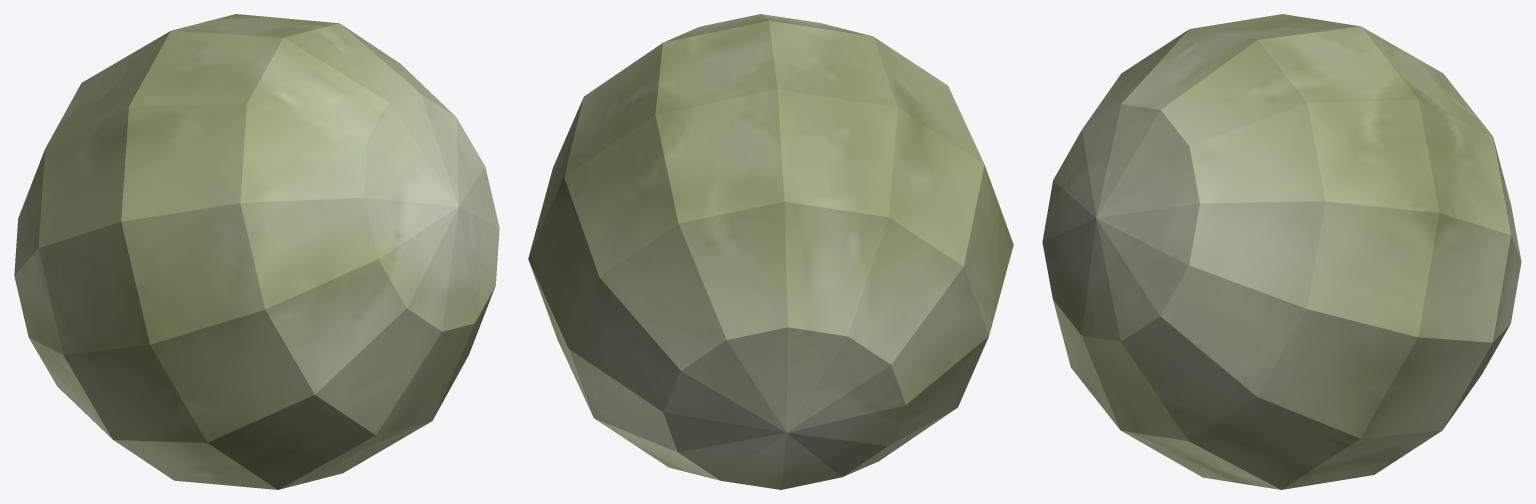
File: ITMI_WHITEPEARL_01.glb
The picture shows the model from 3 angles, left to right: view 1: azimuth 30°, elevation 25°; view 2: azimuth 150°, elevation 25°; view 3: azimuth 270°, elevation 25°; orthographic projection.
Visible parts, largest first — view 1: ITMI_WHITEPEARL_01; view 2: ITMI_WHITEPEARL_01; view 3: ITMI_WHITEPEARL_01.
Part boxes in pixels (left/top/right/bottom): ITMI_WHITEPEARL_01: left=14, top=14, right=499, bottom=489; ITMI_WHITEPEARL_01: left=528, top=14, right=1013, bottom=489; ITMI_WHITEPEARL_01: left=1042, top=14, right=1521, bottom=489.
Bounding box in the file's own units: 0.0975 × 0.0993 × 0.0984.
1 material, 1 textured.
